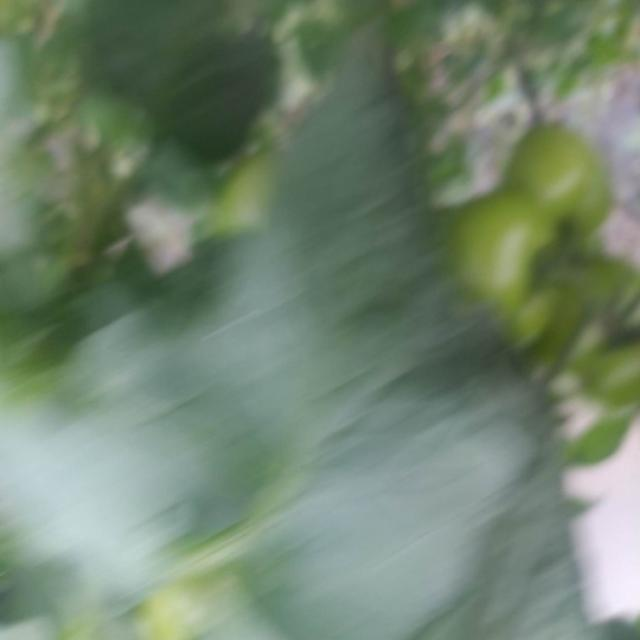tomato: (447, 196, 567, 354), (508, 114, 623, 235), (555, 245, 640, 371), (201, 140, 270, 236)
